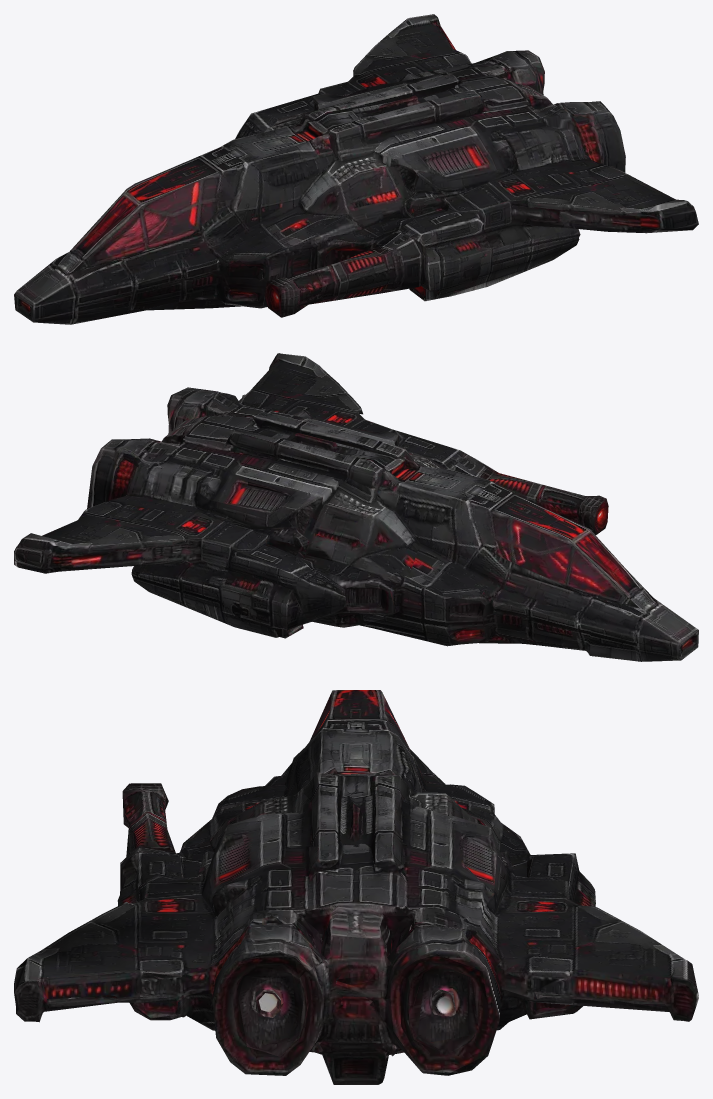
File: ship7.glb
The picture shows the model from 3 angles, top to bottom: view 1: azimuth 30°, elevation 25°; view 2: azimuth 150°, elevation 25°; view 3: azimuth 270°, elevation 25°; orthographic projection. The views are drawn at different scales.
Parts seen in each view (by area): view 1: Mesh0; view 2: Mesh0; view 3: Mesh0.
Boxes of the visible parts, box(x1,y1,x2,y2) form: Mesh0: box(14, 14, 698, 324); Mesh0: box(14, 353, 698, 661); Mesh0: box(14, 690, 698, 1084).
Bounding box in the file's own units: 1.91 × 0.5093 × 1.59.
Materials: 1 (1 with a texture image).
